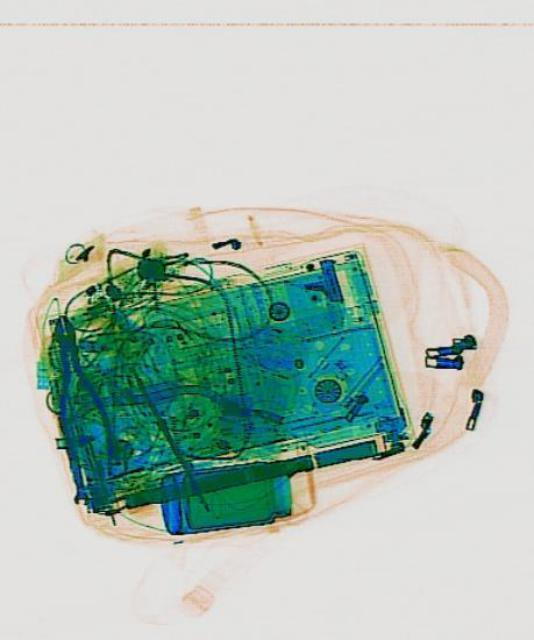Pliers: (37, 309, 116, 485)
Wrench: (61, 442, 88, 504)
